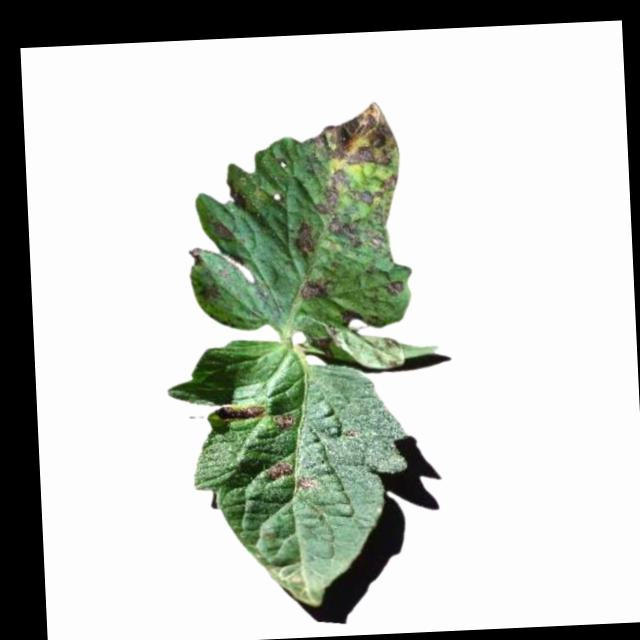Early_blight: (309, 102, 398, 170), (309, 168, 350, 217), (353, 172, 398, 206), (325, 218, 361, 253), (288, 223, 314, 264), (311, 325, 340, 358), (260, 455, 294, 482), (215, 404, 264, 422), (300, 274, 330, 302), (208, 218, 234, 245), (193, 278, 220, 300), (270, 410, 292, 434), (379, 280, 404, 298), (294, 475, 318, 493)
